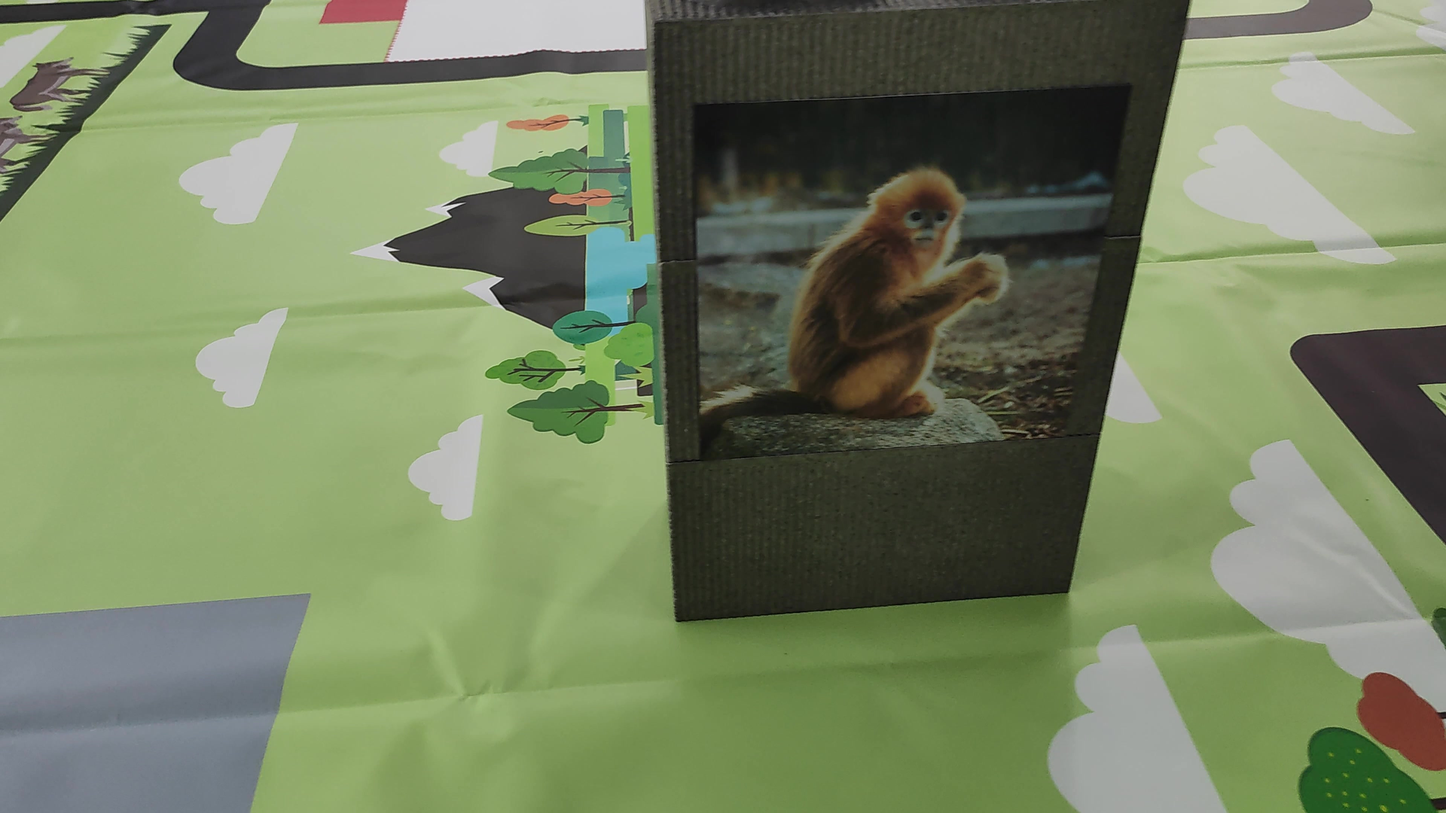monkey: (742, 166, 1049, 427)
